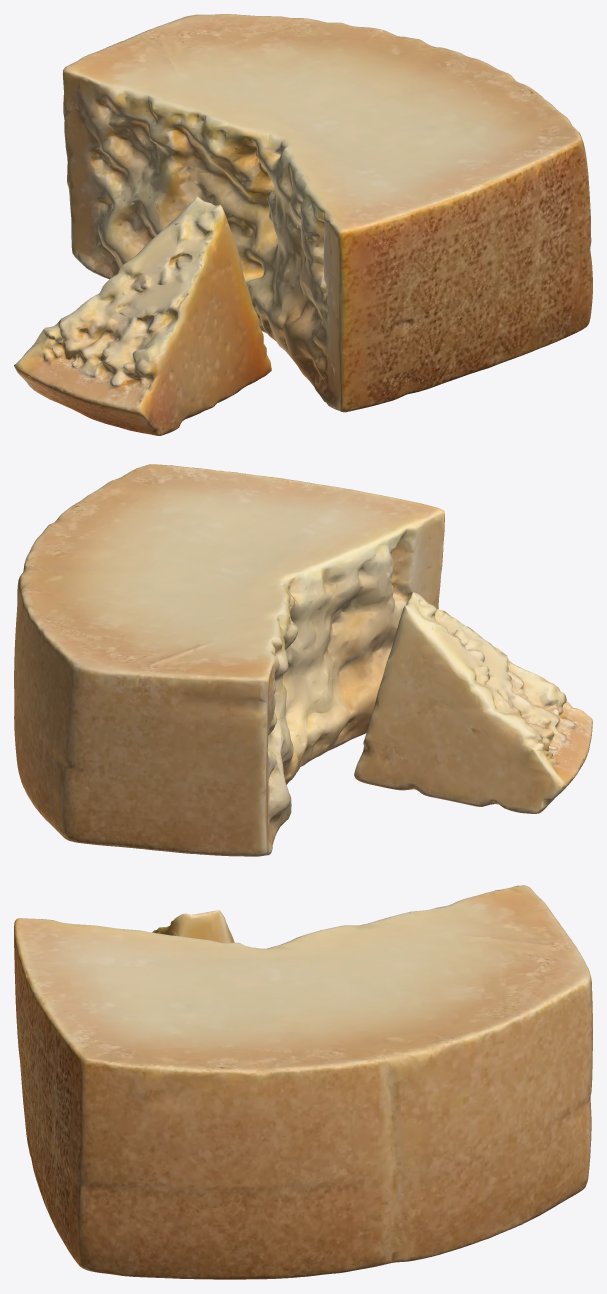
File: parmesan.glb
3 views of the same model, one above another, from view 1: azimuth 30°, elevation 25°; view 2: azimuth 150°, elevation 25°; view 3: azimuth 270°, elevation 25° (orthographic). The views are drawn at different scales.
Parts seen in each view (by area): view 1: geometry_0; view 2: geometry_0; view 3: geometry_0.
Part boxes in pixels (x1,y1,x2,y2): geometry_0: (14, 14, 592, 435); geometry_0: (14, 464, 592, 856); geometry_0: (14, 885, 592, 1279).
Size of the model in its own units: 0.98 by 0.3604 by 0.8534.
Materials: 1 (1 with a texture image).
